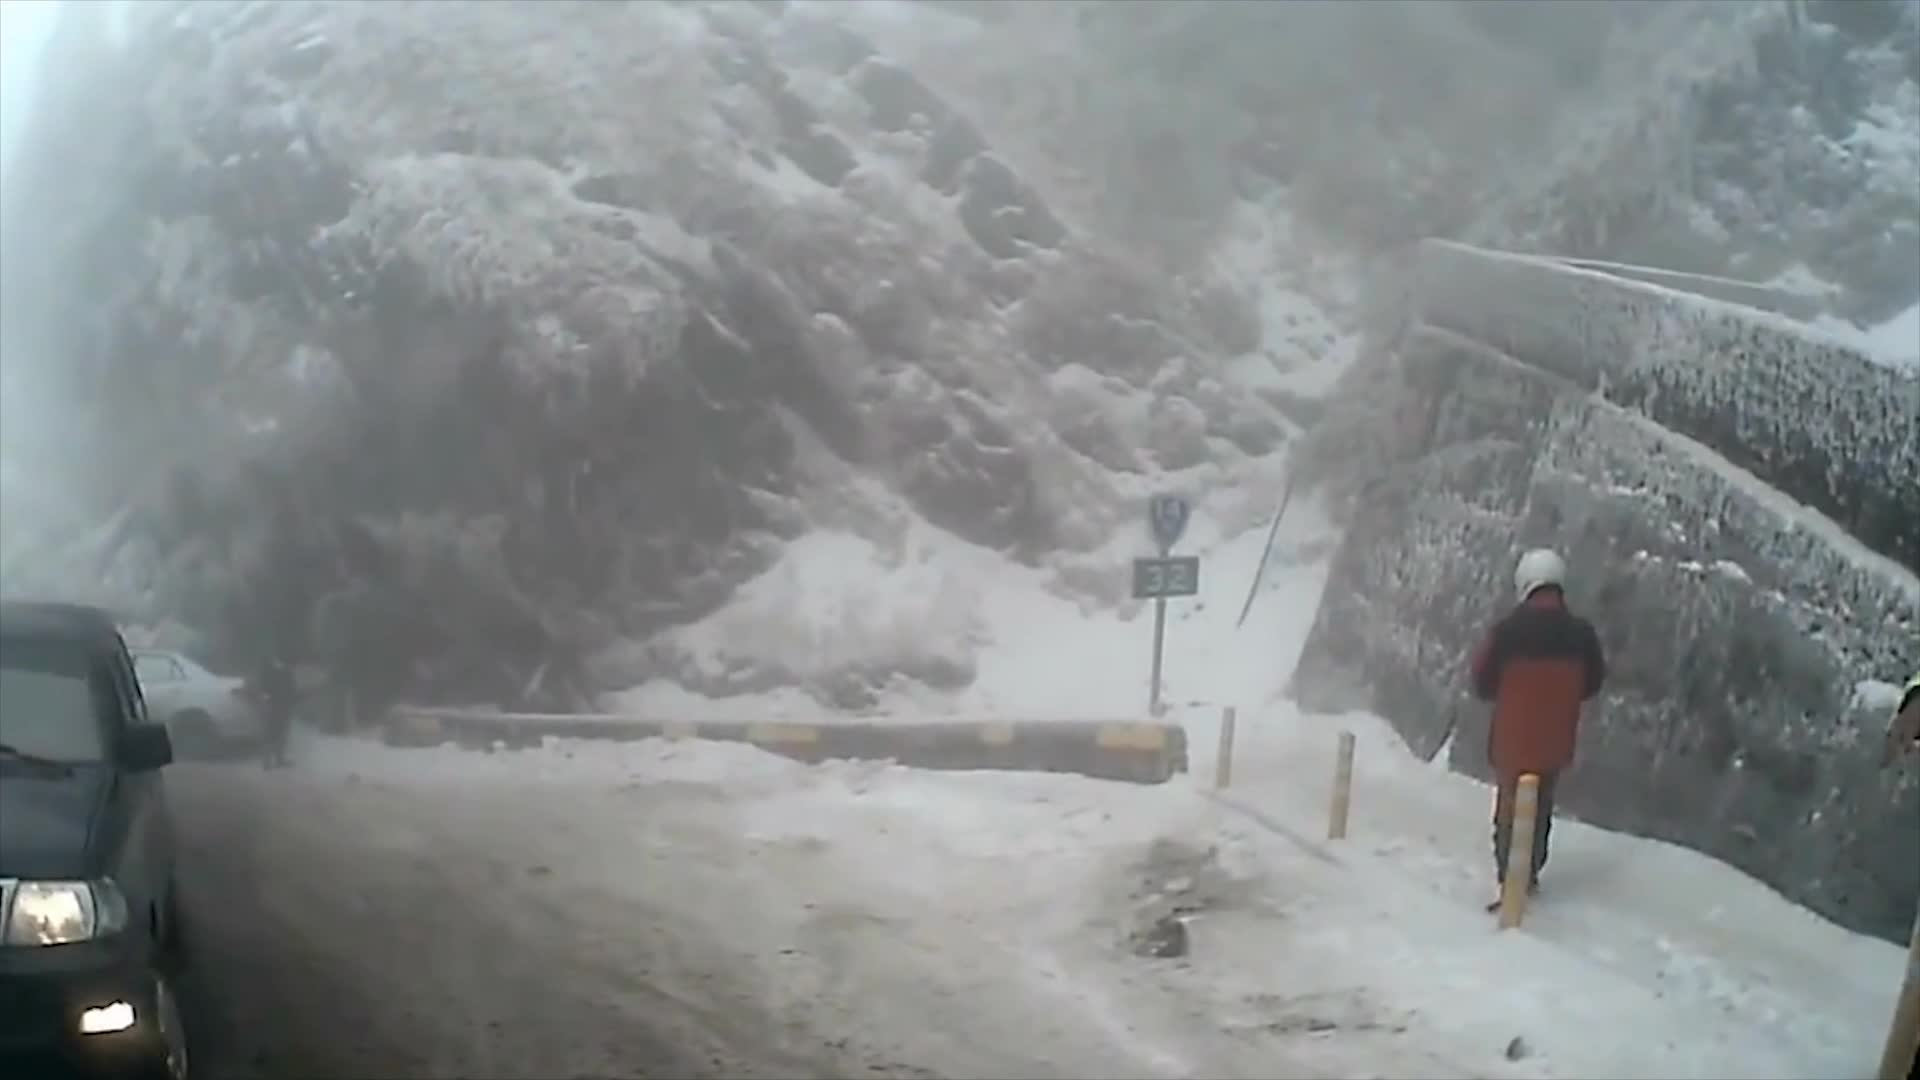pedestrian: (1474, 549, 1606, 910), (260, 652, 304, 772)
vehicle: (0, 606, 215, 1080)
